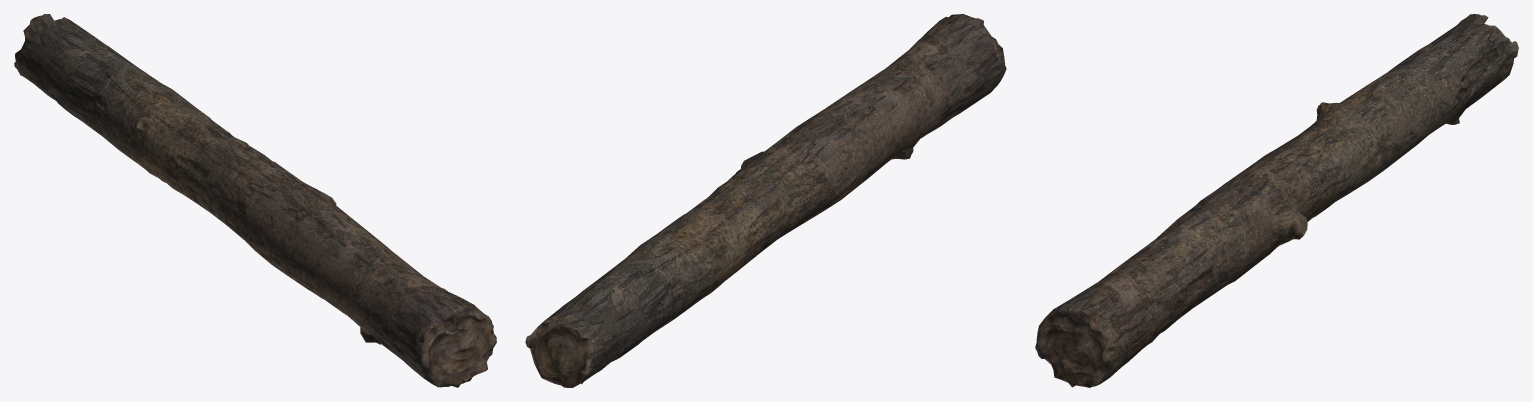
File: SM_TreeLog01.glb
3 views of the same model, side by side, from view 1: azimuth 30°, elevation 25°; view 2: azimuth 150°, elevation 25°; view 3: azimuth 330°, elevation 25° (orthographic).
Parts seen in each view (by area): view 1: SM_TreeLog01; view 2: SM_TreeLog01; view 3: SM_TreeLog01.
Boxes of the visible parts, x1=… form: SM_TreeLog01: x1=14, y1=14, x2=496, y2=387; SM_TreeLog01: x1=525, y1=14, x2=1006, y2=387; SM_TreeLog01: x1=1035, y1=14, x2=1518, y2=387.
Bounding box in the file's own units: 0.3098 × 0.2821 × 2.42.
Materials: 1 (1 with a texture image).
